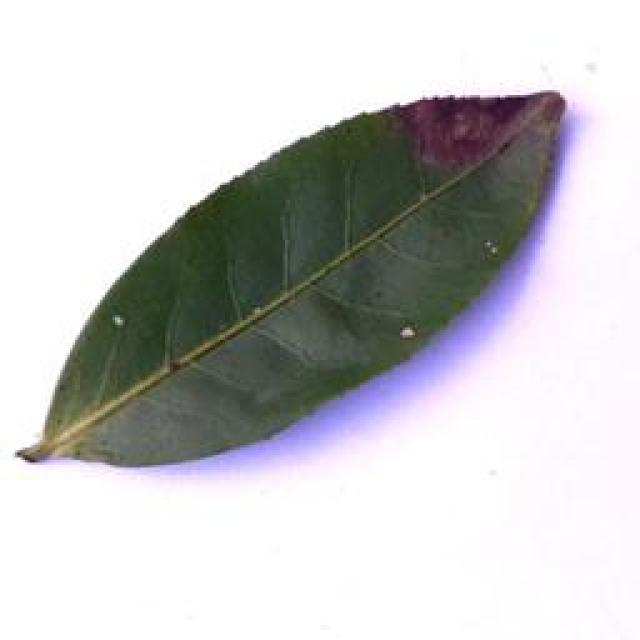Brown Blight: (18, 72, 575, 482)
